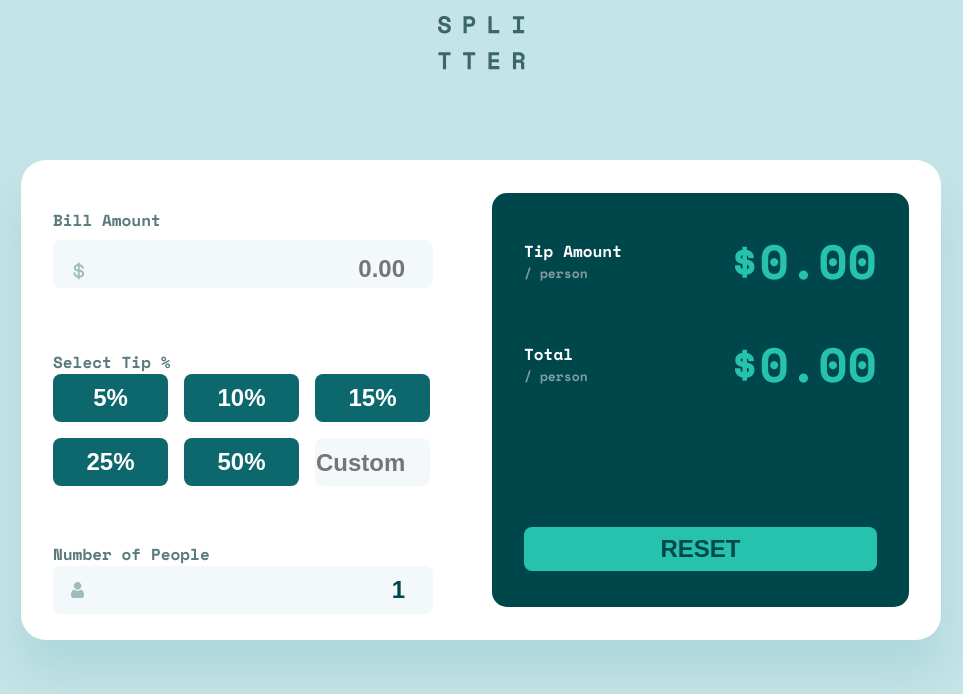
Test case: Tip Calculator App › RESET visszaállítja az értékeket és az eredményeket
In the number field labelled "Bill Amount": (243, 264) [53,240,433,288], type "100"
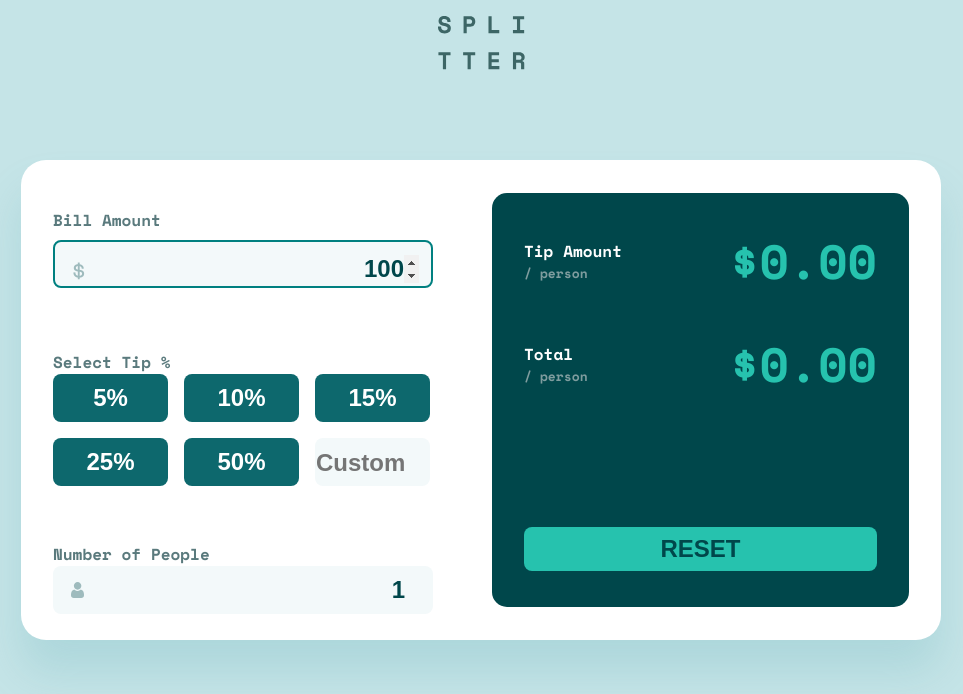
In the number field labelled "Number of People": (243, 590) [53,566,433,614], type "2"
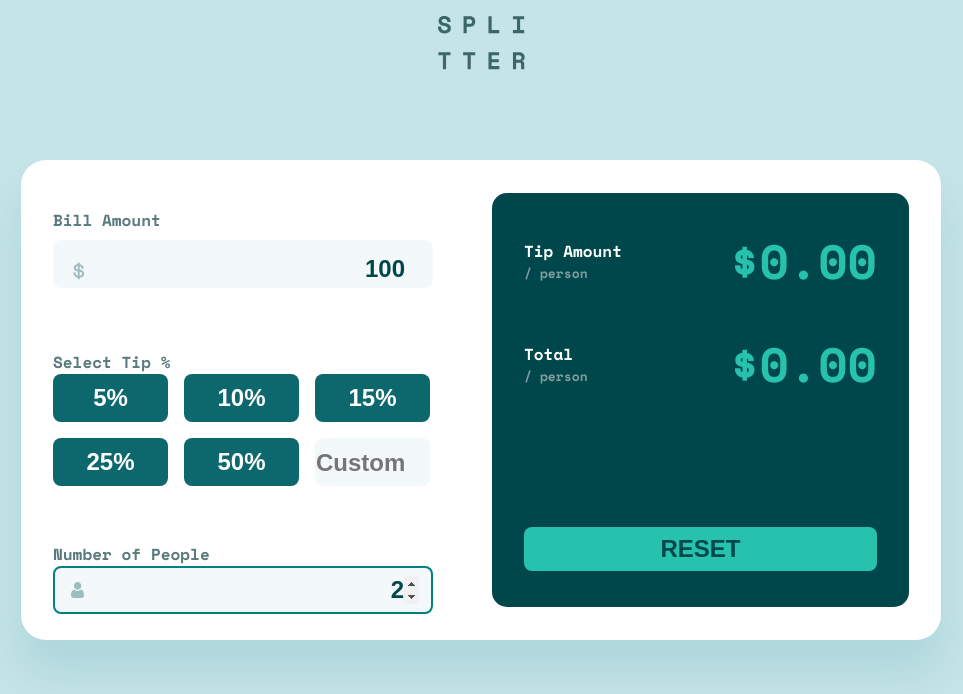
Click the button "10%": (242, 398) [184,374,299,422]
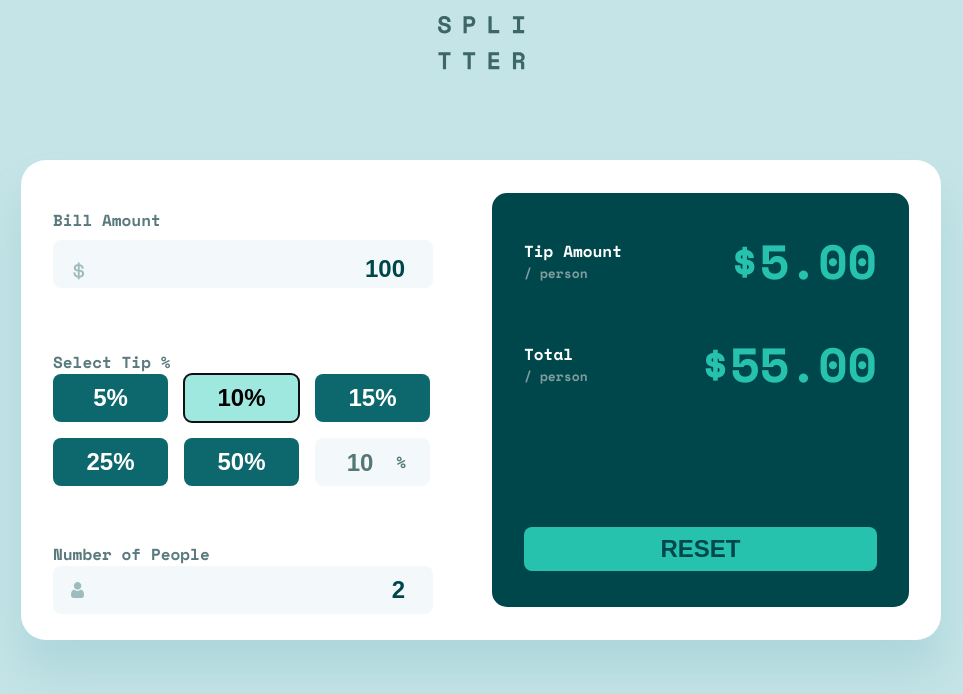
Now the text "$5.00" is shown, box [730,225,877,296]
Now the text "$55.00" is shown, box [701,328,877,399]
Click the button "RESET": (700, 549) [524,527,877,571]
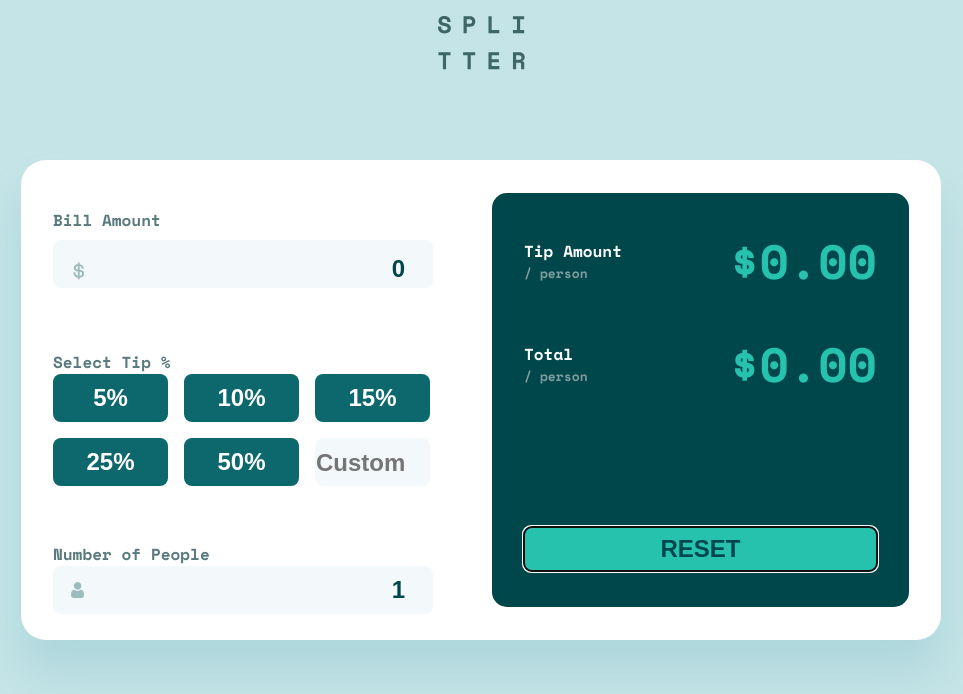
Now the number field labelled "Bill Amount" holds "0", box [53,240,433,288]
Now the number field labelled "Number of People" holds "1", box [53,566,433,614]
